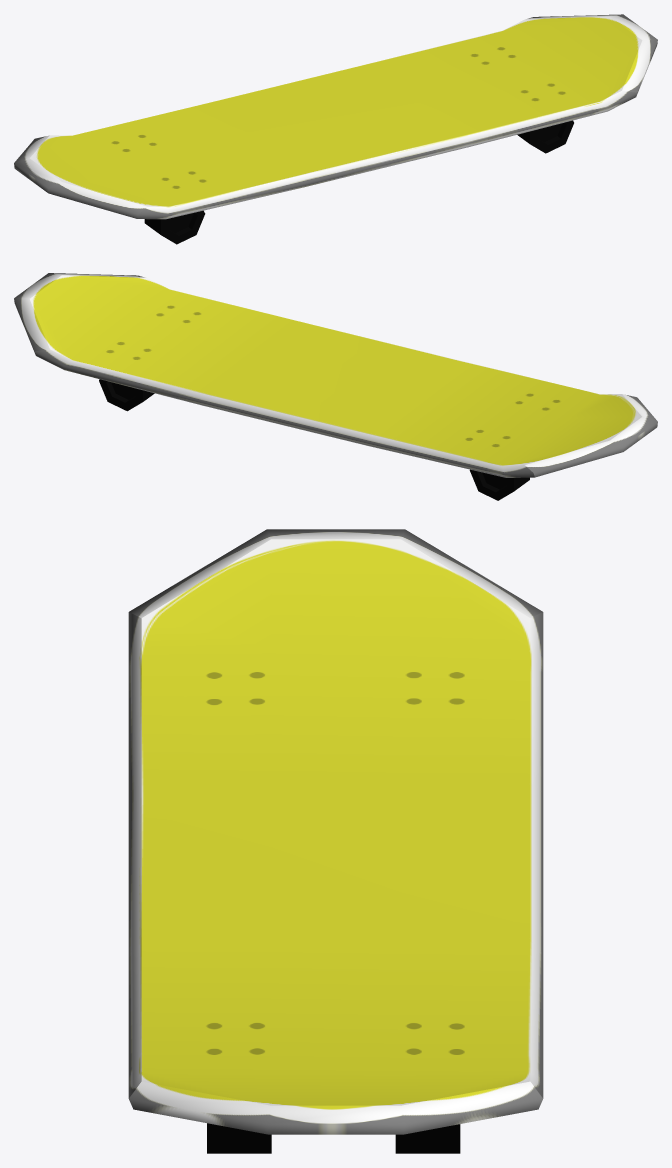
The model's file is patineta.fbx.
3 renders of one model, top to bottom at view 1: azimuth 30°, elevation 25°; view 2: azimuth 150°, elevation 25°; view 3: azimuth 270°, elevation 25°, orthographic. The views are drawn at different scales.
Visible parts, largest first — view 1: polySurface1; view 2: polySurface1; view 3: polySurface1.
Part boxes in pixels (x1,y1,x2,y2): polySurface1: [14, 14, 657, 244]; polySurface1: [14, 273, 657, 500]; polySurface1: [128, 529, 543, 1153].
Size of the model in its own units: 19.25 by 2.23 by 5.67.
